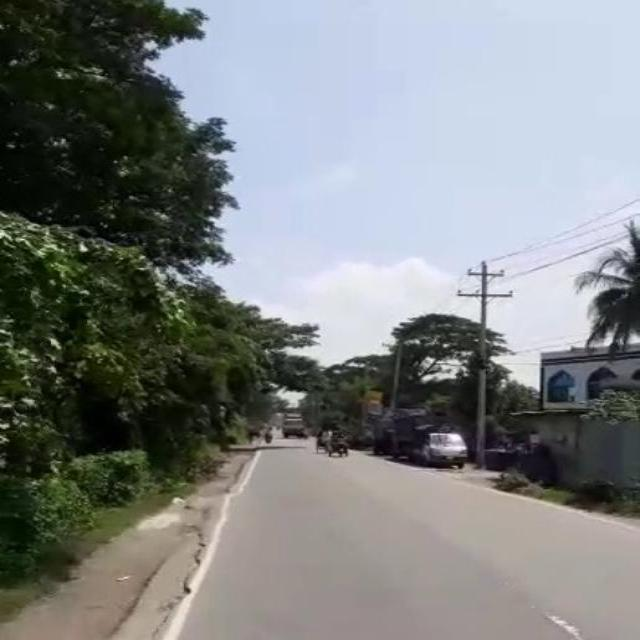pickup: (407, 426, 468, 464)
rickshaw: (323, 428, 347, 457), (312, 426, 333, 450)
